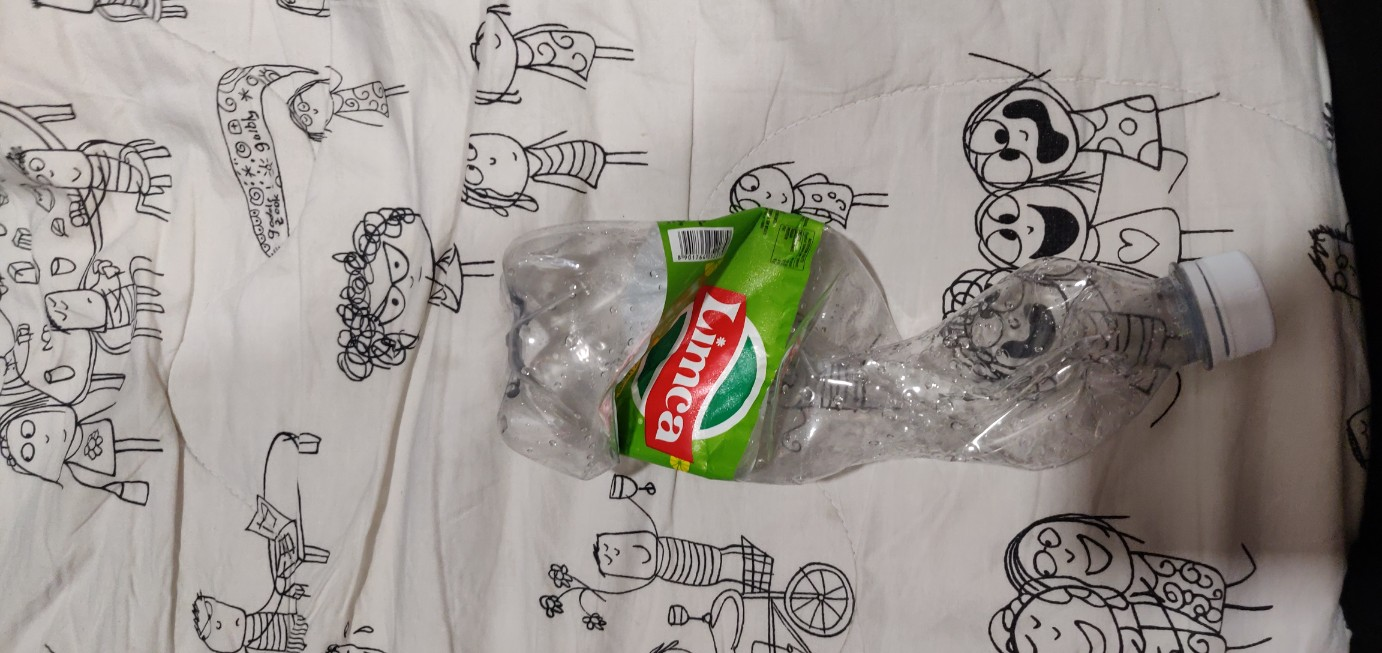Electronics: (467, 180, 1294, 502)
